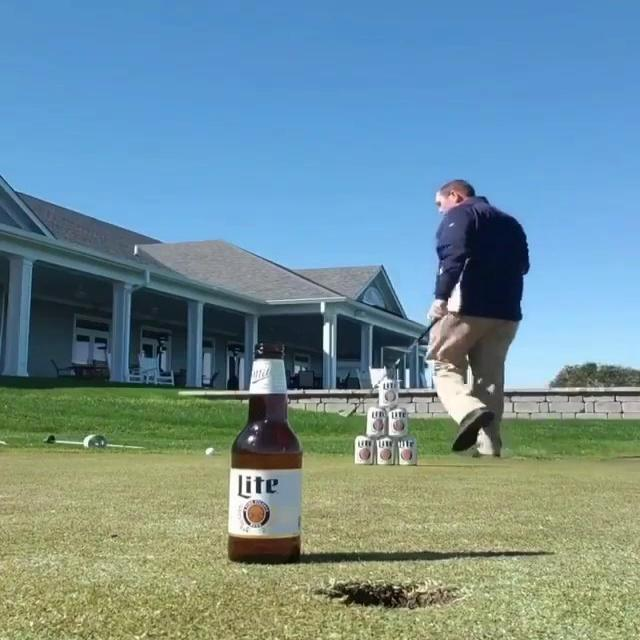ClubHead: (339, 403, 357, 418)
GolfBall: (205, 448, 214, 456)
